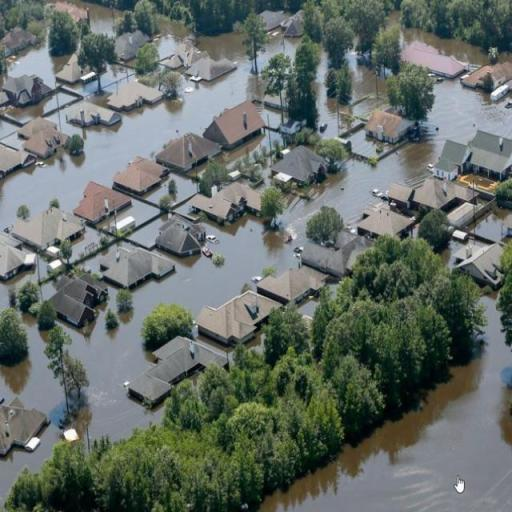flood: (66, 80, 512, 440), (259, 297, 512, 512), (0, 32, 264, 227), (0, 315, 62, 414), (0, 426, 58, 498), (402, 28, 488, 66), (7, 41, 68, 86), (314, 51, 338, 136), (88, 64, 136, 104), (68, 0, 122, 35), (141, 172, 198, 205), (257, 33, 302, 71), (0, 266, 37, 312), (154, 16, 191, 59), (1, 94, 56, 122), (346, 51, 376, 102), (192, 322, 232, 360), (128, 215, 167, 248), (117, 199, 161, 226), (70, 226, 100, 262), (347, 129, 381, 158), (352, 94, 382, 120), (61, 81, 97, 96), (0, 132, 25, 150), (245, 330, 265, 352), (298, 299, 319, 316), (0, 119, 18, 138), (256, 169, 270, 192), (58, 91, 76, 108), (95, 215, 114, 229), (42, 282, 56, 300), (387, 9, 400, 28), (173, 204, 191, 216), (377, 77, 387, 98), (40, 256, 47, 282), (502, 52, 512, 62), (383, 143, 394, 152)
house: (125, 336, 204, 408), (192, 292, 279, 342), (0, 389, 54, 457), (202, 100, 263, 156), (256, 265, 326, 312), (101, 246, 174, 289), (52, 276, 101, 333), (154, 133, 220, 175), (465, 128, 510, 187), (17, 206, 80, 247), (400, 40, 470, 76), (76, 179, 130, 225), (272, 144, 327, 189), (456, 238, 507, 284), (0, 113, 32, 184), (113, 156, 167, 198), (156, 214, 210, 256), (0, 229, 34, 285), (21, 116, 65, 158), (0, 72, 48, 110), (359, 207, 414, 240), (368, 106, 414, 144), (466, 62, 512, 100), (304, 242, 352, 278), (193, 192, 246, 224), (66, 100, 120, 129), (433, 136, 466, 182), (108, 81, 162, 109), (187, 55, 236, 82), (412, 180, 455, 210), (2, 25, 36, 56), (264, 11, 302, 38), (54, 58, 82, 86)
